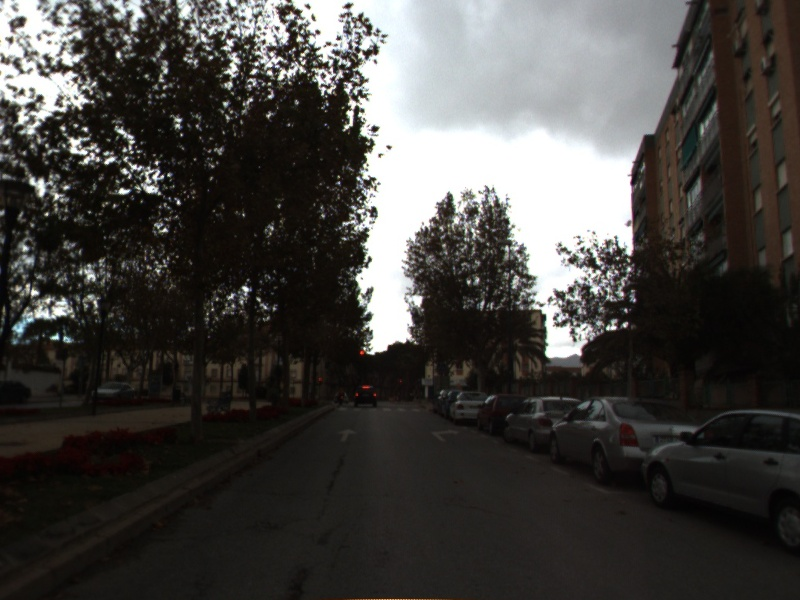RIGHT: (429, 426, 462, 444)
STRAIGHT: (335, 426, 360, 444)
